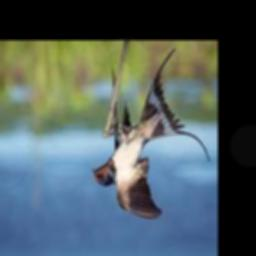Swallow: (93, 46, 210, 218)
